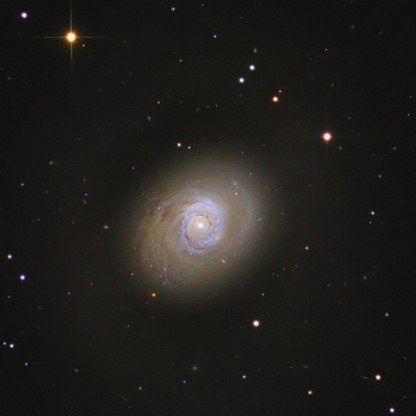Messier 94: (122, 139, 292, 313)
